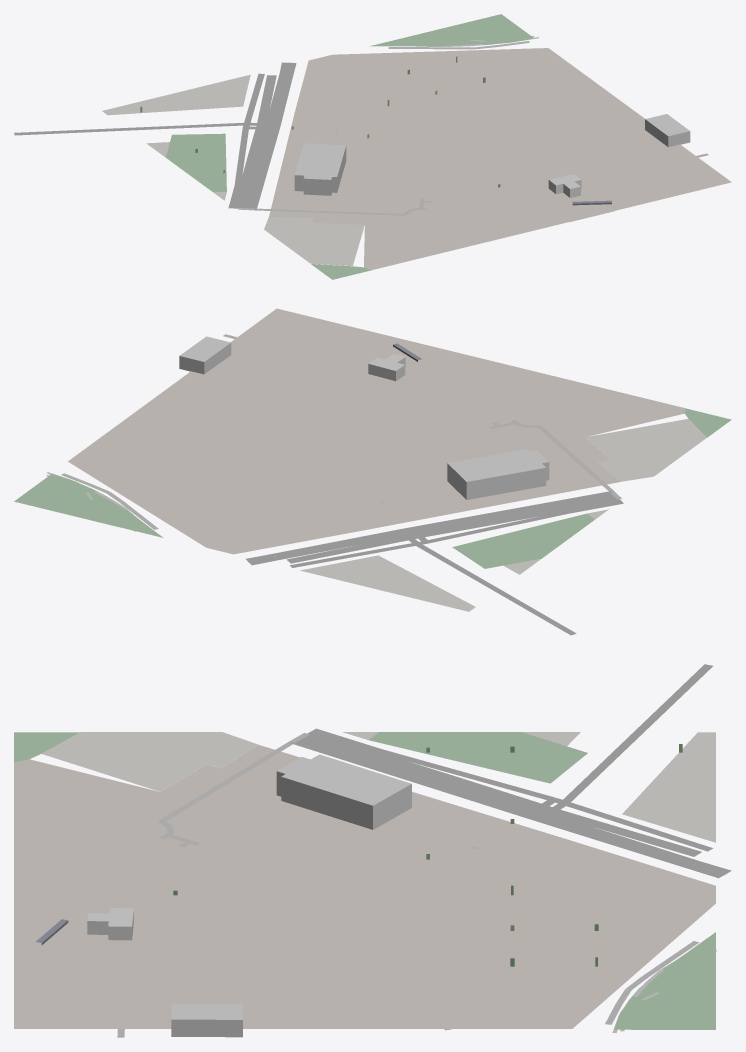
3 renders of one model, top to bottom at view 1: azimuth 30°, elevation 25°; view 2: azimuth 150°, elevation 25°; view 3: azimuth 270°, elevation 25°, orthographic. The views are drawn at different scales.
Bounding box in the file's own units: 628 × 19.97 × 511.
